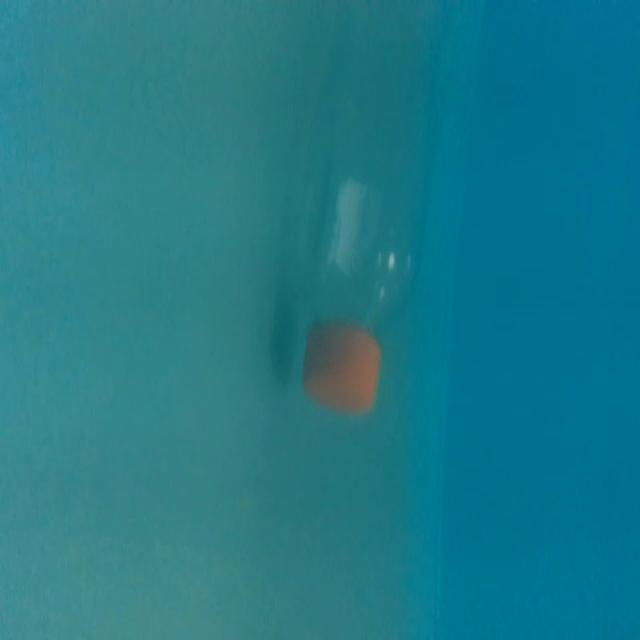plastic bottle: (302, 5, 444, 423)
